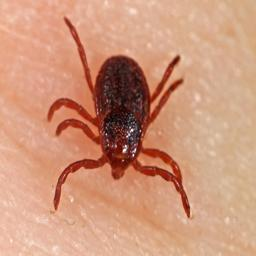Rhipicephalus sanguineus: (47, 16, 191, 219)
